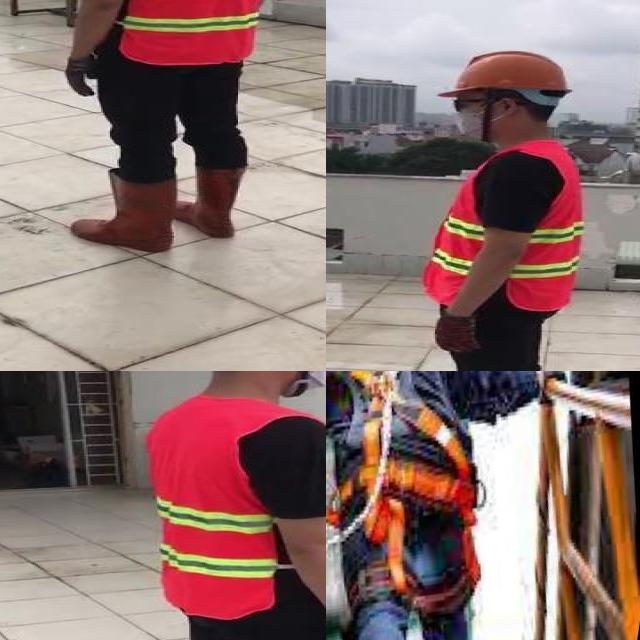Harness: (326, 371, 485, 591)
boots: (68, 171, 178, 252), (183, 162, 247, 238)
face_mask: (443, 93, 511, 140), (271, 371, 326, 388)
hand_glove: (435, 314, 479, 352), (60, 56, 101, 95)
head_helmet: (448, 48, 574, 97)
person: (384, 44, 602, 371), (41, 0, 299, 255), (129, 371, 326, 640)
vest: (146, 397, 322, 615), (420, 141, 582, 313), (120, 0, 289, 63)
